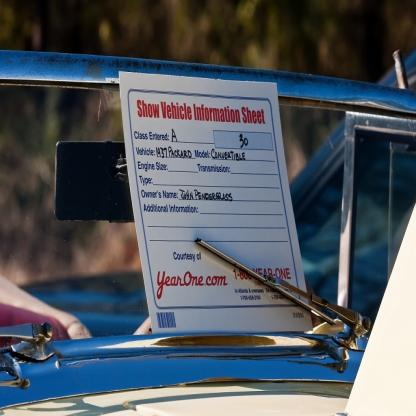Car: (1, 51, 416, 416)
